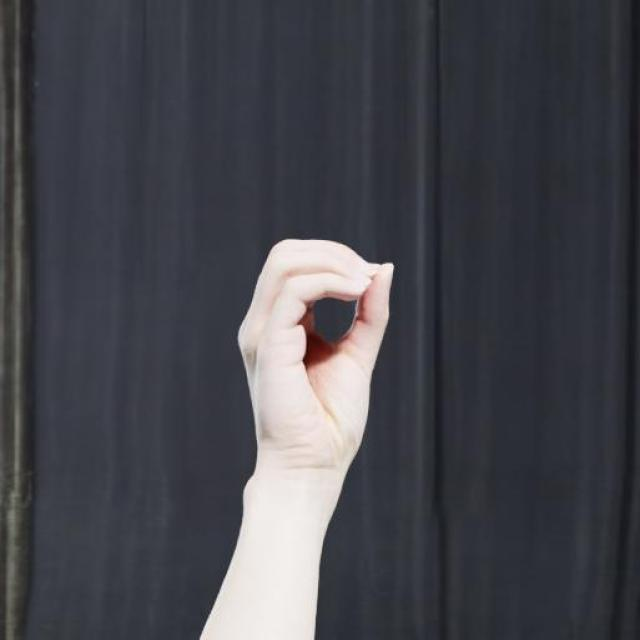O: (236, 231, 398, 474)
